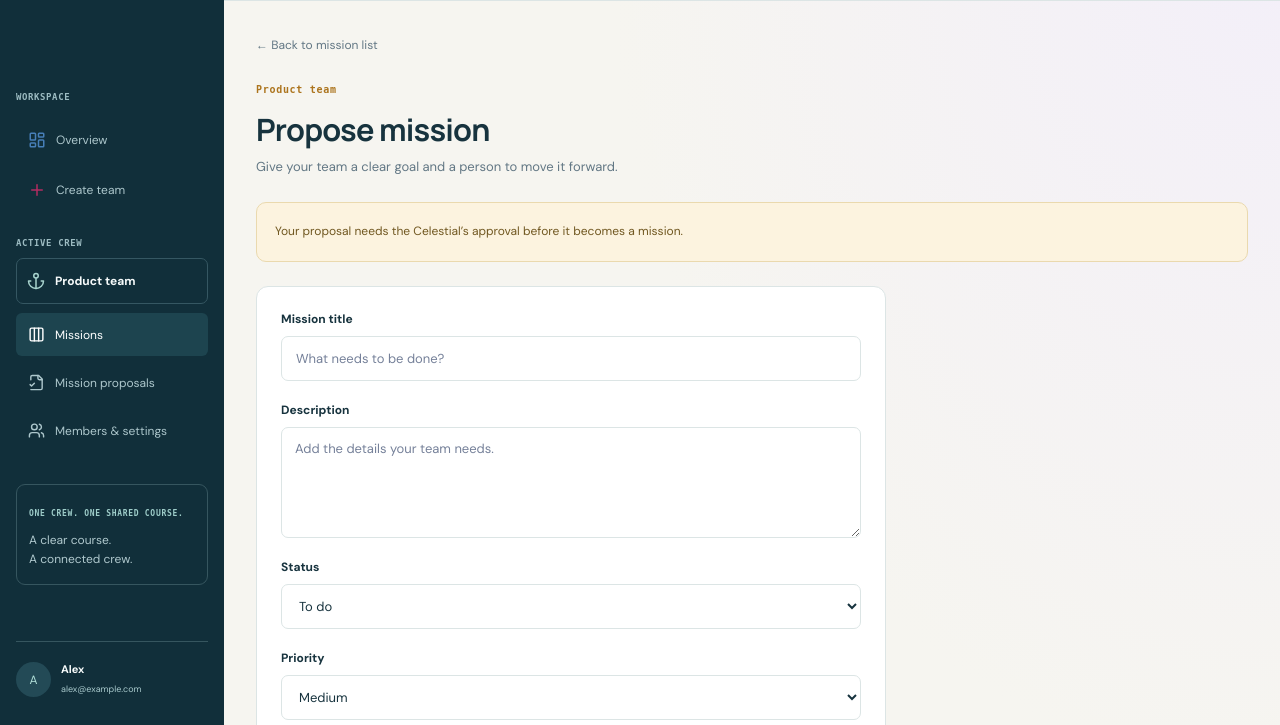
Test: Task workflows › lets Holy Knights submit proposals with To do status and shows them awaiting approval
Step 1. Type "Ship feature" into the field labelled "Mission title" → (571, 358), box [281,336,861,381]
(page scrolled)
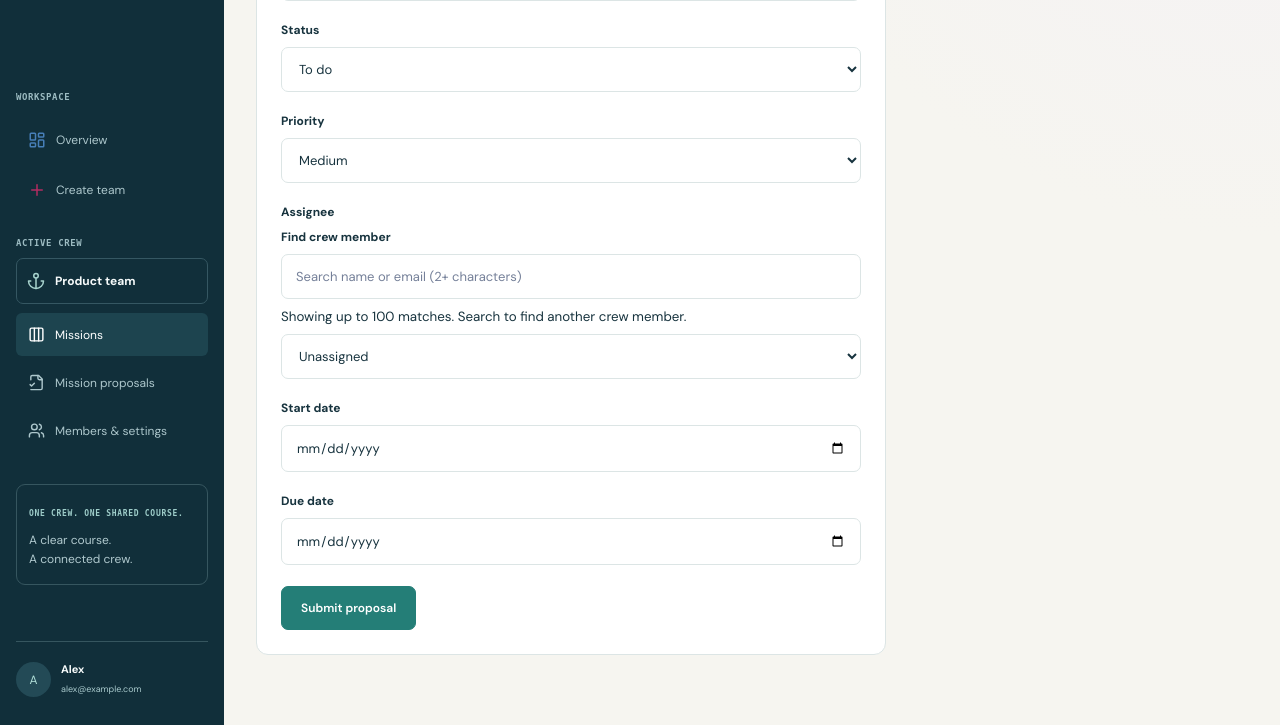
Expected: the dropdown labelled "Status" shows "To do", [281,47,861,92]
Step 2. Click the button "Submit proposal" → click(349, 608), box [281,586,416,630]
(page scrolled)
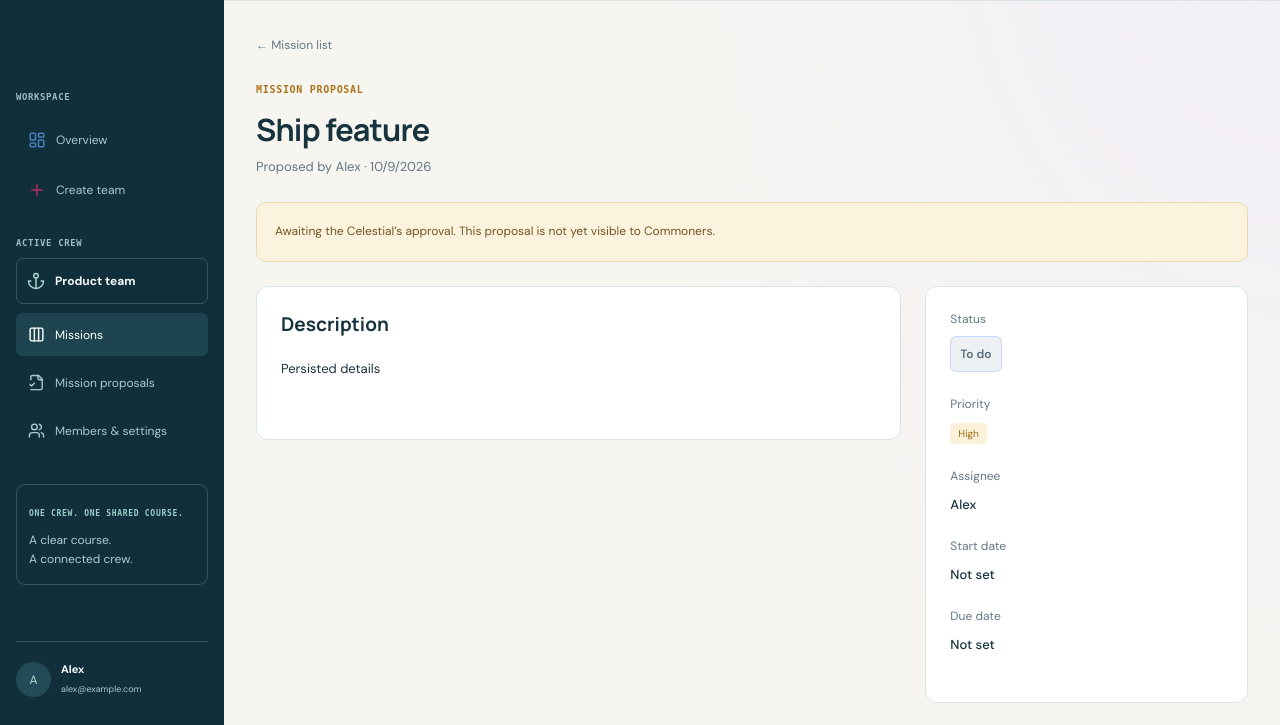
Now the text "Awaiting the Celestial" is shown, box [275,223,715,239]
